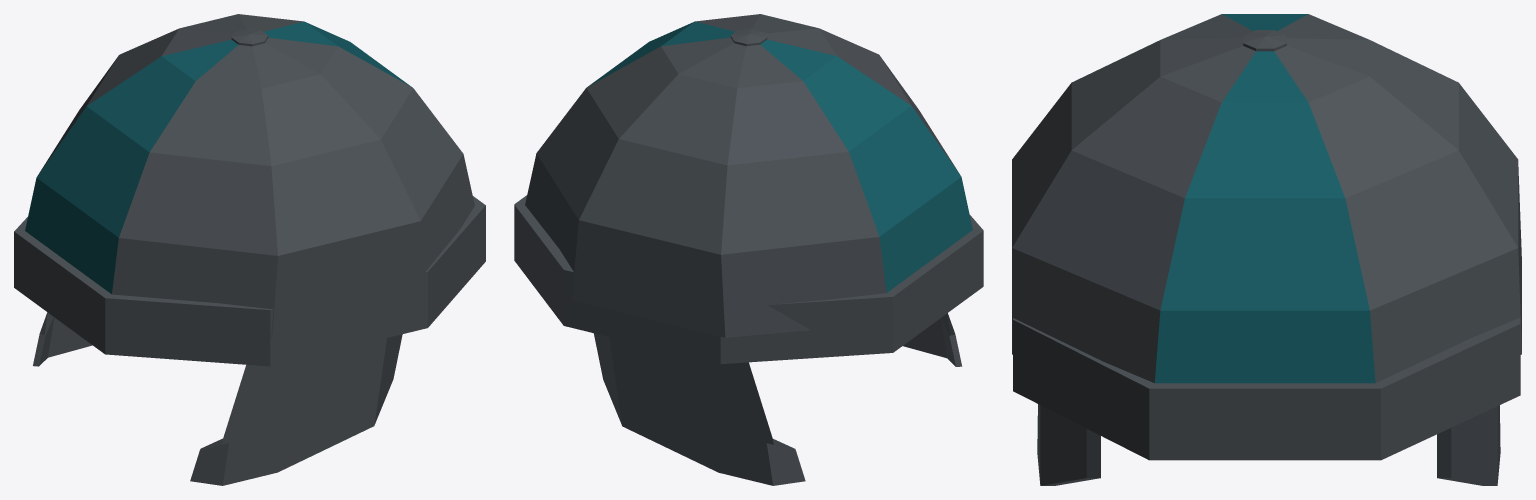
Rendered from helmet_1_2.glb.
The picture shows the model from 3 angles, left to right: view 1: azimuth 30°, elevation 25°; view 2: azimuth 150°, elevation 25°; view 3: azimuth 270°, elevation 25°; orthographic projection. The views are drawn at different scales.
Visible parts, largest first — view 1: Sphere, Cylinder2.001, Cube, Cylinder; view 2: Sphere, Cylinder2.001, Cube, Cylinder; view 3: Sphere, Cylinder2.001, Cube, Cylinder.
Part boxes in pixels (left/top/right/bottom): Sphere: left=25, top=14, right=474, bottom=338; Cylinder2.001: left=14, top=196, right=485, bottom=366; Cube: left=33, top=312, right=402, bottom=485; Cylinder: left=231, top=28, right=268, bottom=46; Sphere: left=525, top=14, right=972, bottom=337; Cylinder2.001: left=514, top=195, right=983, bottom=364; Cube: left=594, top=313, right=962, bottom=485; Cylinder: left=730, top=28, right=767, bottom=46; Sphere: left=1012, top=14, right=1521, bottom=383; Cylinder2.001: left=1013, top=317, right=1520, bottom=460; Cube: left=1037, top=404, right=1500, bottom=485; Cylinder: left=1243, top=30, right=1286, bottom=51.
Bounding box in the file's own units: 0.5657 × 0.5089 × 0.5159.
